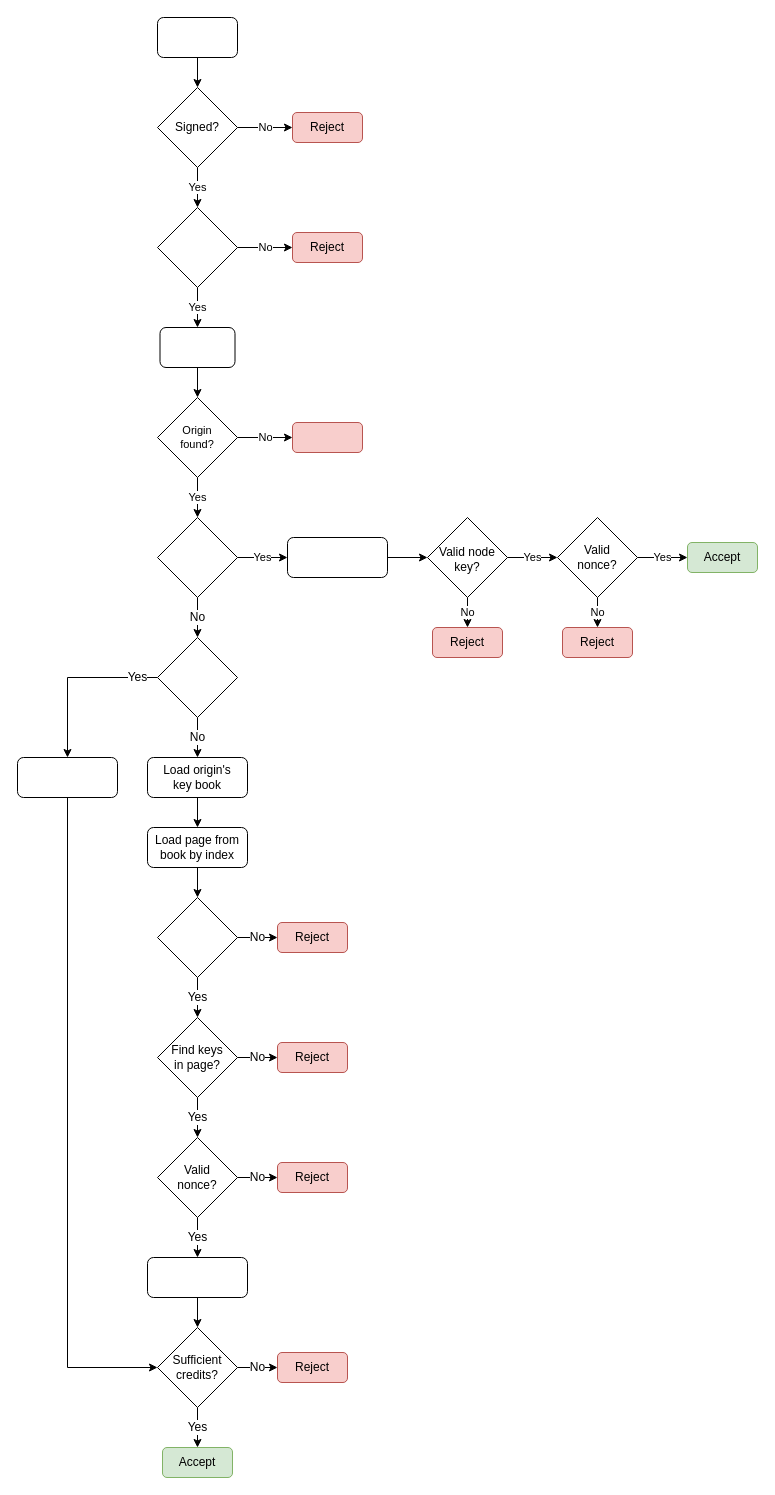
The diagram is 775 pixels wide and 1495 high, and some of its shapes have lost their labels. Here are the shapes that lost their labels. From the top down, the box of each, then its label:
(156, 16, 238, 58): Transaction Received
(156, 206, 238, 288): Signatures valid?
(159, 326, 235, 368): Load origin record
(292, 422, 362, 452): Reject*
(156, 516, 238, 598): Synthetic?
(286, 536, 388, 578): Validate sigs against DN
(156, 636, 238, 718): Origin is lite acct?
(16, 756, 118, 798): Deduct credits from lite acct
(156, 896, 238, 978): Valid height?
(146, 1256, 248, 1298): Deduct credits from key page
